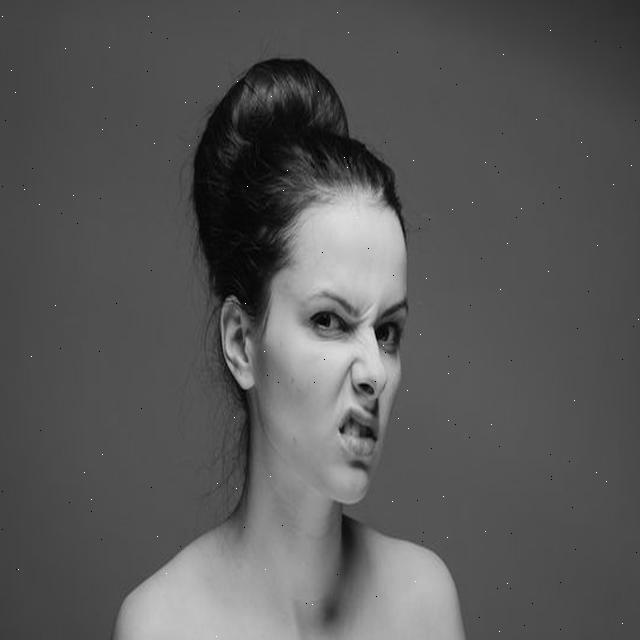Disgust: (256, 190, 410, 506)
